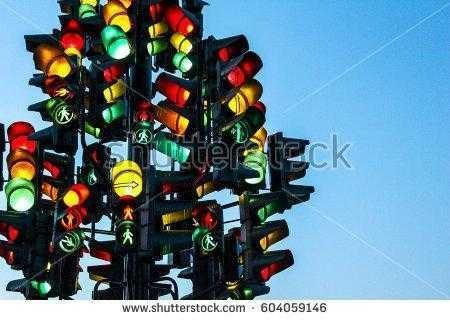1: (53, 101, 76, 126), (198, 230, 222, 253), (59, 232, 82, 256), (119, 224, 140, 248), (132, 125, 152, 147)
10: (114, 160, 142, 198)
9: (32, 38, 72, 80), (219, 80, 253, 118), (2, 150, 35, 180), (168, 29, 196, 55)
red traffic light: (101, 28, 135, 62), (6, 180, 36, 212), (173, 53, 198, 76)
